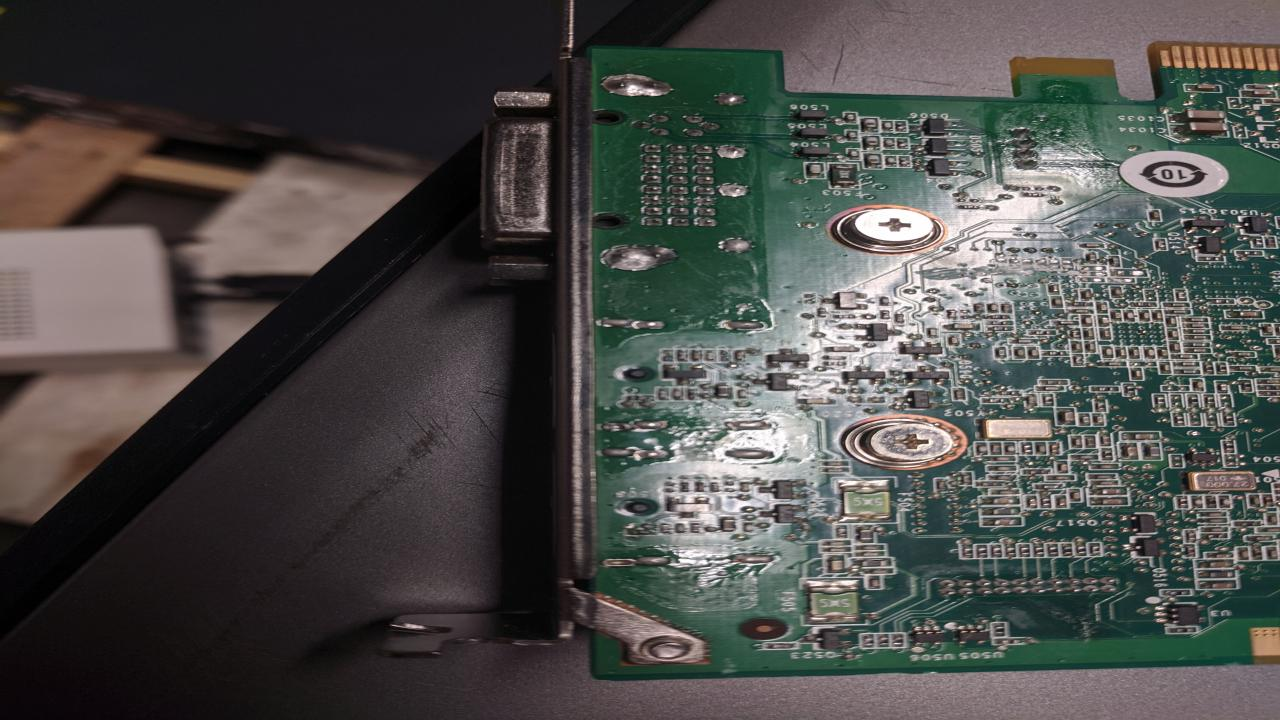CRS: (867, 422, 949, 462), (857, 208, 936, 246)
